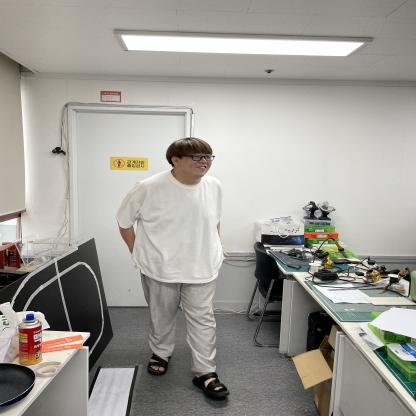normal: (116, 134, 238, 400)
